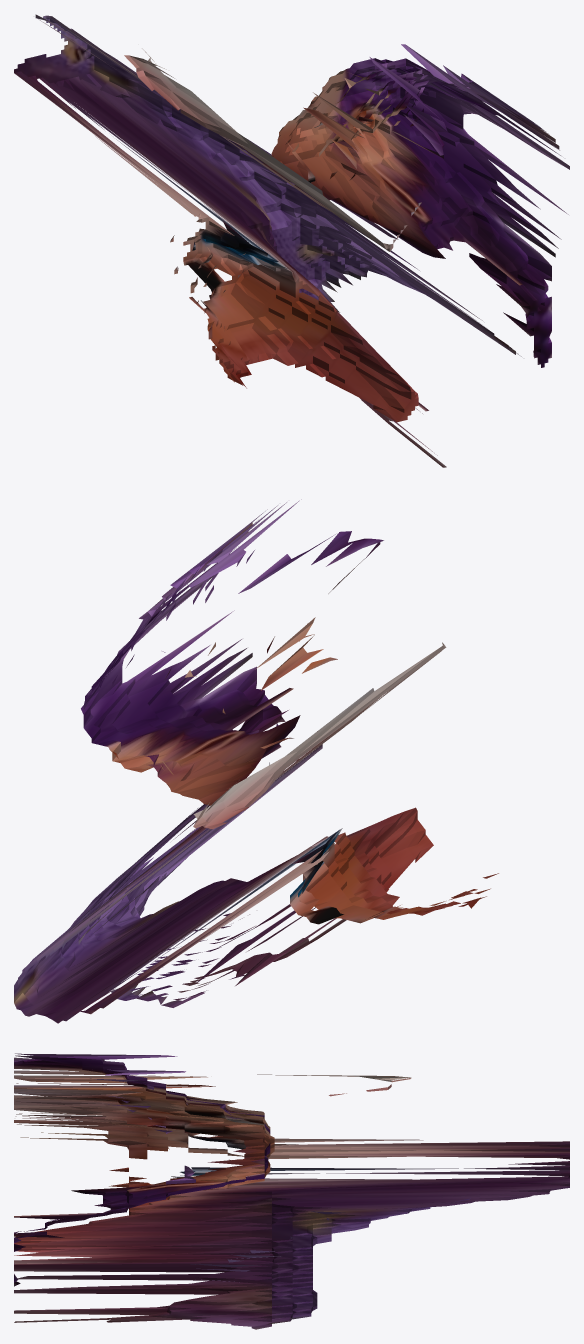
Rendered from frame_00002.glb.
3 renders of one model, top to bottom at view 1: azimuth 30°, elevation 25°; view 2: azimuth 150°, elevation 25°; view 3: azimuth 270°, elevation 25°, orthographic. The views are drawn at different scales.
Parts seen in each view (by area): view 1: geometry_0; view 2: geometry_0; view 3: geometry_0.
Part boxes in pixels (x1,y1,x2,y2): geometry_0: [14, 14, 569, 467]; geometry_0: [14, 499, 498, 1023]; geometry_0: [14, 1053, 569, 1329].
Size of the model in its own units: 0.0802 by 0.0883 by 0.16.
Materials: 1 (1 with a texture image).
